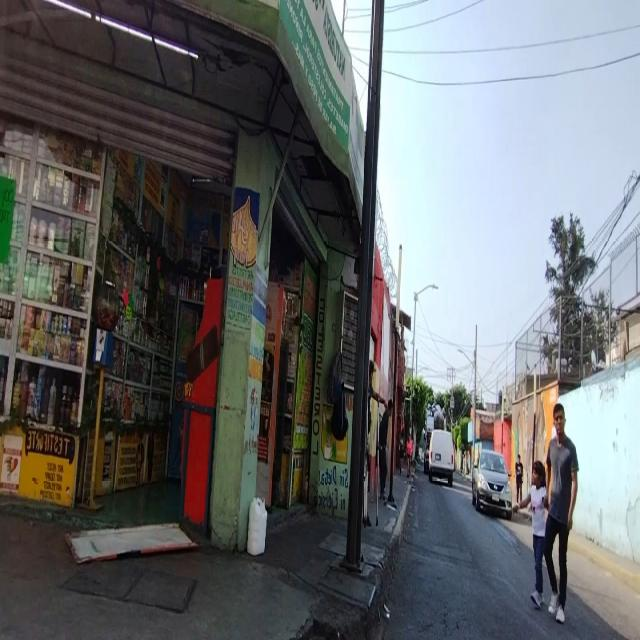adult: (544, 401, 578, 624), (512, 459, 547, 609)
